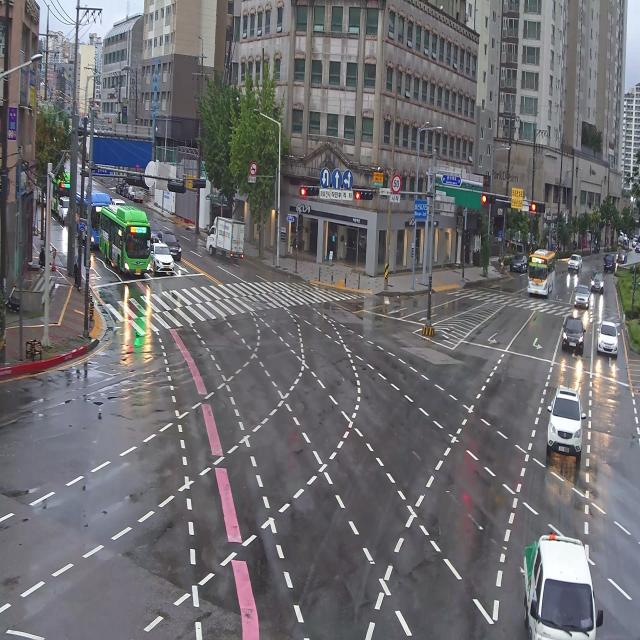Bus: (92, 204, 156, 288), (509, 244, 564, 311), (74, 188, 109, 252), (45, 166, 73, 213)
Car: (542, 368, 586, 464), (557, 304, 590, 361), (594, 309, 626, 367), (149, 229, 175, 278), (156, 227, 183, 264), (565, 248, 586, 282), (507, 248, 530, 274), (574, 279, 590, 313), (586, 268, 605, 294), (59, 193, 75, 222), (145, 214, 160, 243), (616, 246, 629, 268), (114, 174, 126, 196), (120, 178, 132, 198)
Truck: (522, 522, 600, 640), (203, 210, 250, 276), (129, 185, 146, 204), (602, 253, 616, 275), (110, 198, 127, 210)
